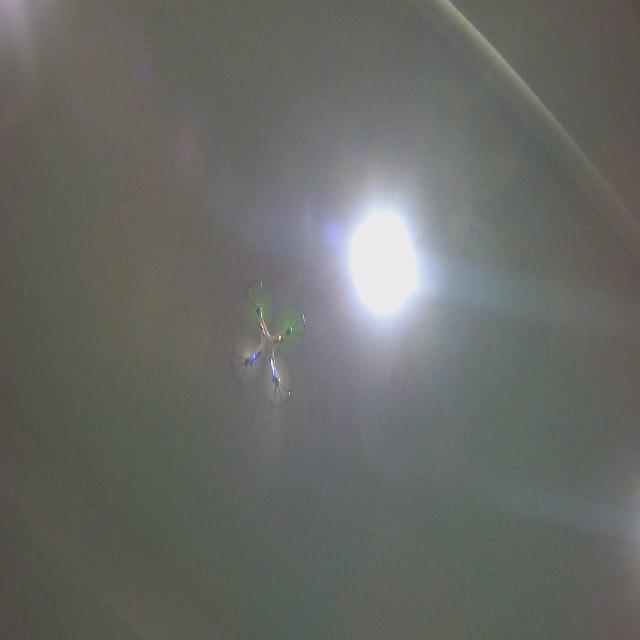drone: (230, 274, 310, 413)
